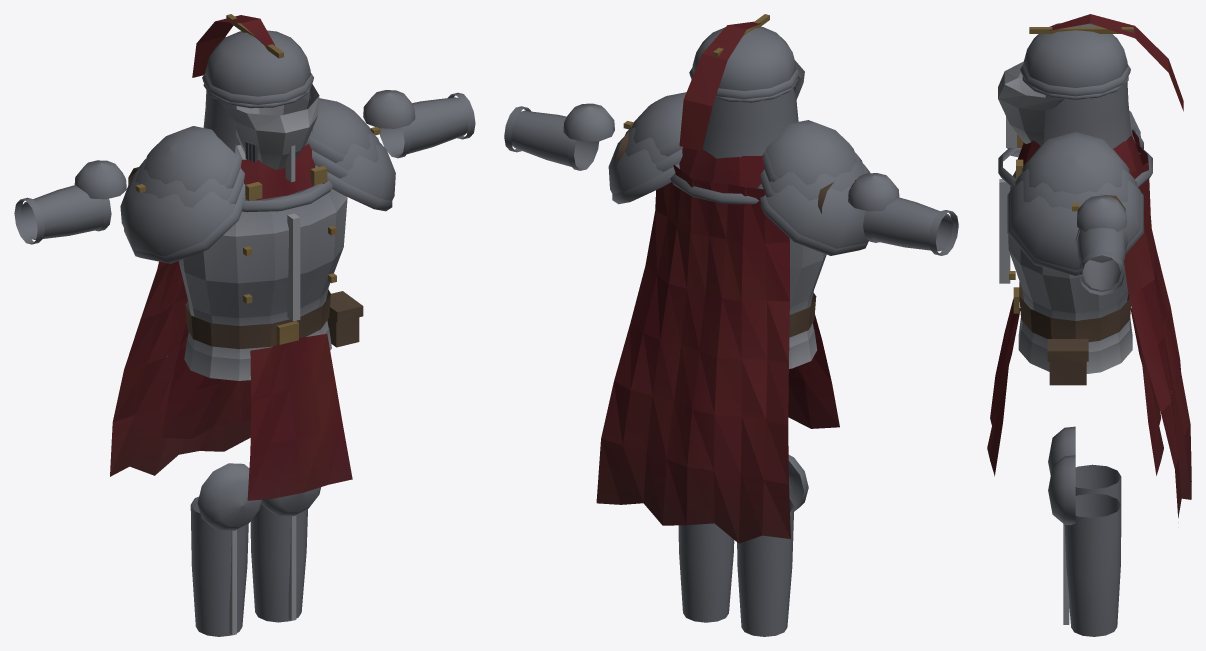
File: player.glb
The picture shows the model from 3 angles, left to right: view 1: azimuth 30°, elevation 25°; view 2: azimuth 150°, elevation 25°; view 3: azimuth 270°, elevation 25°; orthographic projection.
Visible parts, largest first — view 1: Knight_Cuirass, Knight_Tabard, Knight_Helm, Knight_Pauldron_R, Knight_Greave_R, Knight_Cape_3, Knight_Greave_L, Knight_Pauldron_L, Knight_Vambrace_R, Knight_Vambrace_L, Knight_Cape_2, Knight_Cape_1; view 2: Knight_Cape_3, Knight_Cape_2, Knight_Cape_1, Knight_Helm, Knight_Pauldron_R, Knight_Greave_R, Knight_Pauldron_L, Knight_Vambrace_R, Knight_Vambrace_L, Knight_Greave_L, Knight_Cuirass, Knight_Tabard; view 3: Knight_Helm, Knight_Cuirass, Knight_Pauldron_L, Knight_Greave_L, Knight_Vambrace_L, Knight_Cape_2, Knight_Cape_1, Knight_Tabard, Knight_Cape_3, Knight_Greave_R.
Part boxes in pixels (<box>): Knight_Cuirass: <box>178,135,363,380</box>; Knight_Tabard: <box>161,323,352,500</box>; Knight_Helm: <box>192,14,319,182</box>; Knight_Pauldron_R: <box>120,126,246,263</box>; Knight_Greave_R: <box>190,463,262,636</box>; Knight_Cape_3: <box>110,350,250,476</box>; Knight_Greave_L: <box>250,487,320,622</box>; Knight_Pauldron_L: <box>304,98,395,211</box>; Knight_Vambrace_R: <box>14,160,126,244</box>; Knight_Vambrace_L: <box>363,90,475,158</box>; Knight_Cape_2: <box>124,261,187,369</box>; Knight_Cape_1: <box>157,143,327,269</box>; Knight_Cape_3: <box>596,381,790,543</box>; Knight_Cape_2: <box>614,266,789,425</box>; Knight_Cape_1: <box>645,147,789,301</box>; Knight_Helm: <box>679,14,804,158</box>; Knight_Pauldron_R: <box>757,120,870,255</box>; Knight_Greave_R: <box>737,455,808,636</box>; Knight_Pauldron_L: <box>608,92,686,204</box>; Knight_Vambrace_R: <box>848,173,958,255</box>; Knight_Vambrace_L: <box>504,103,614,170</box>; Knight_Greave_L: <box>678,523,734,622</box>; Knight_Cuirass: <box>670,173,826,368</box>; Knight_Tabard: <box>788,315,839,428</box>; Knight_Helm: <box>998,14,1183,148</box>; Knight_Cuirass: <box>998,141,1152,385</box>; Knight_Pauldron_L: <box>1007,132,1143,276</box>; Knight_Greave_L: <box>1048,455,1121,636</box>; Knight_Vambrace_L: <box>1075,195,1127,295</box>; Knight_Cape_2: <box>1129,253,1180,412</box>; Knight_Cape_1: <box>1016,130,1157,296</box>; Knight_Tabard: <box>987,299,1163,476</box>; Knight_Cape_3: <box>1161,364,1191,517</box>; Knight_Greave_R: <box>1048,426,1121,504</box>.
Size of the model in its own units: 1.34 by 1.76 by 0.5495.
